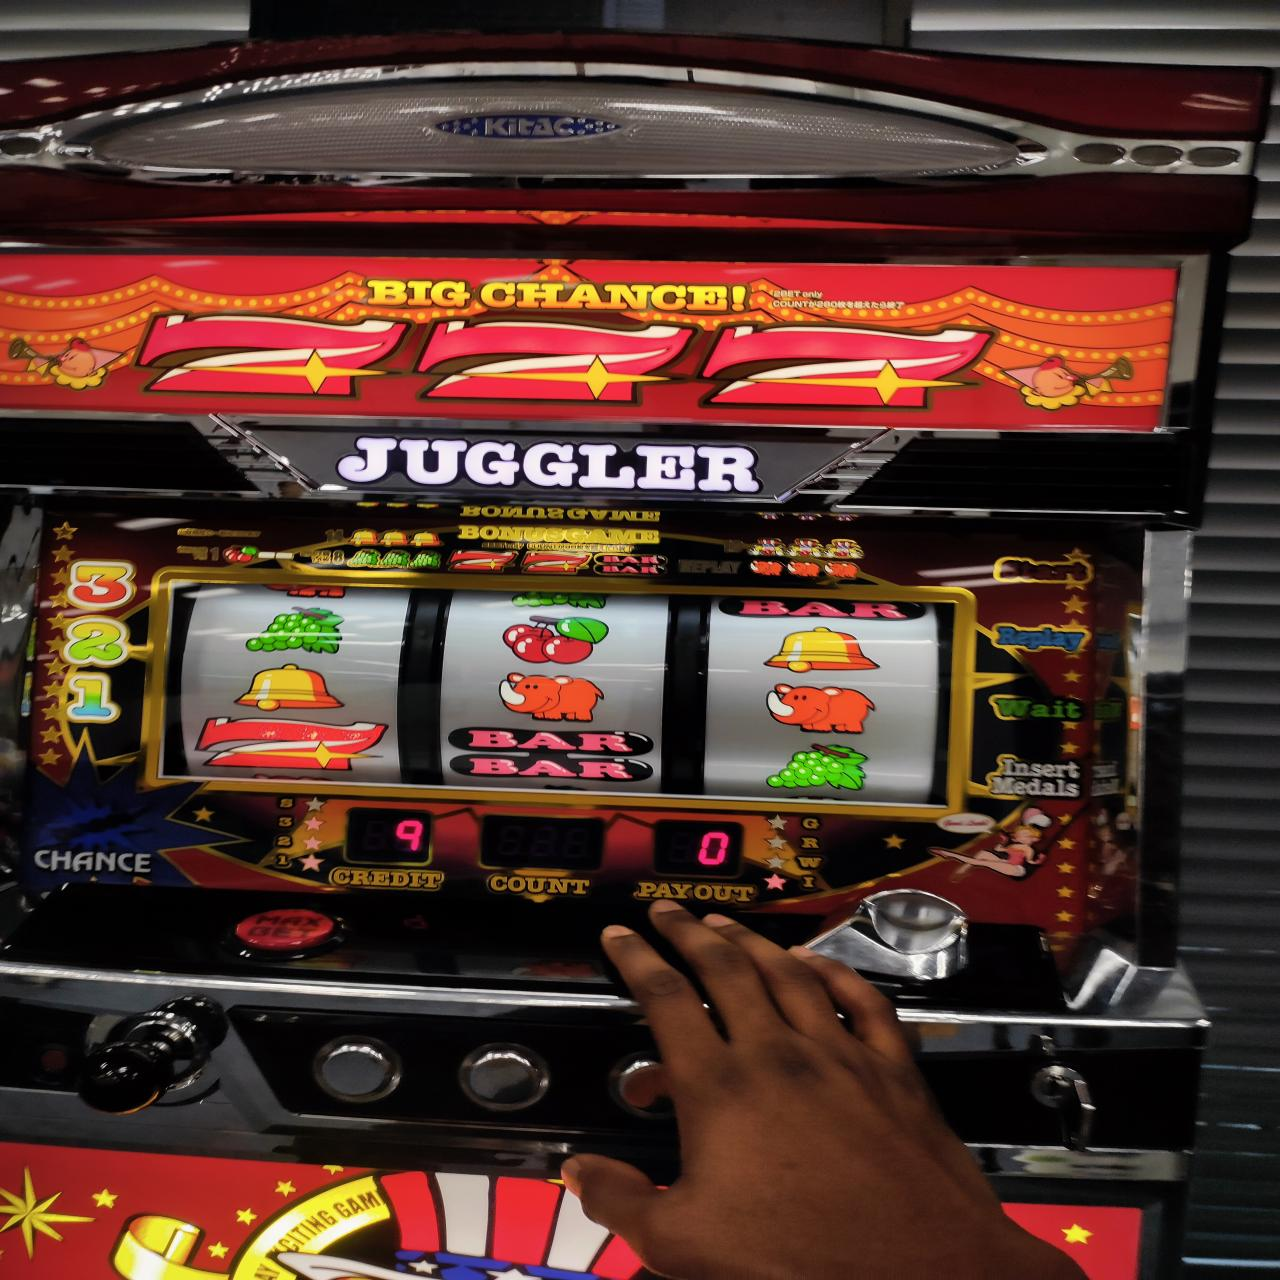7: (196, 710, 382, 774)
8: (761, 685, 874, 735), (493, 672, 604, 722)
Display: (164, 578, 952, 806)
bar: (445, 724, 654, 782)
bell: (764, 622, 880, 676), (233, 662, 348, 713)
cherry: (497, 613, 610, 662)
grape: (764, 743, 871, 794), (238, 605, 342, 655)
